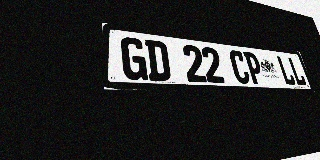2: (182, 44, 207, 82), (200, 46, 225, 83)
C: (228, 50, 251, 84)
D: (145, 39, 171, 81)
G: (120, 36, 148, 81)
L: (276, 56, 297, 85), (287, 57, 307, 86)
P: (243, 52, 265, 84)
